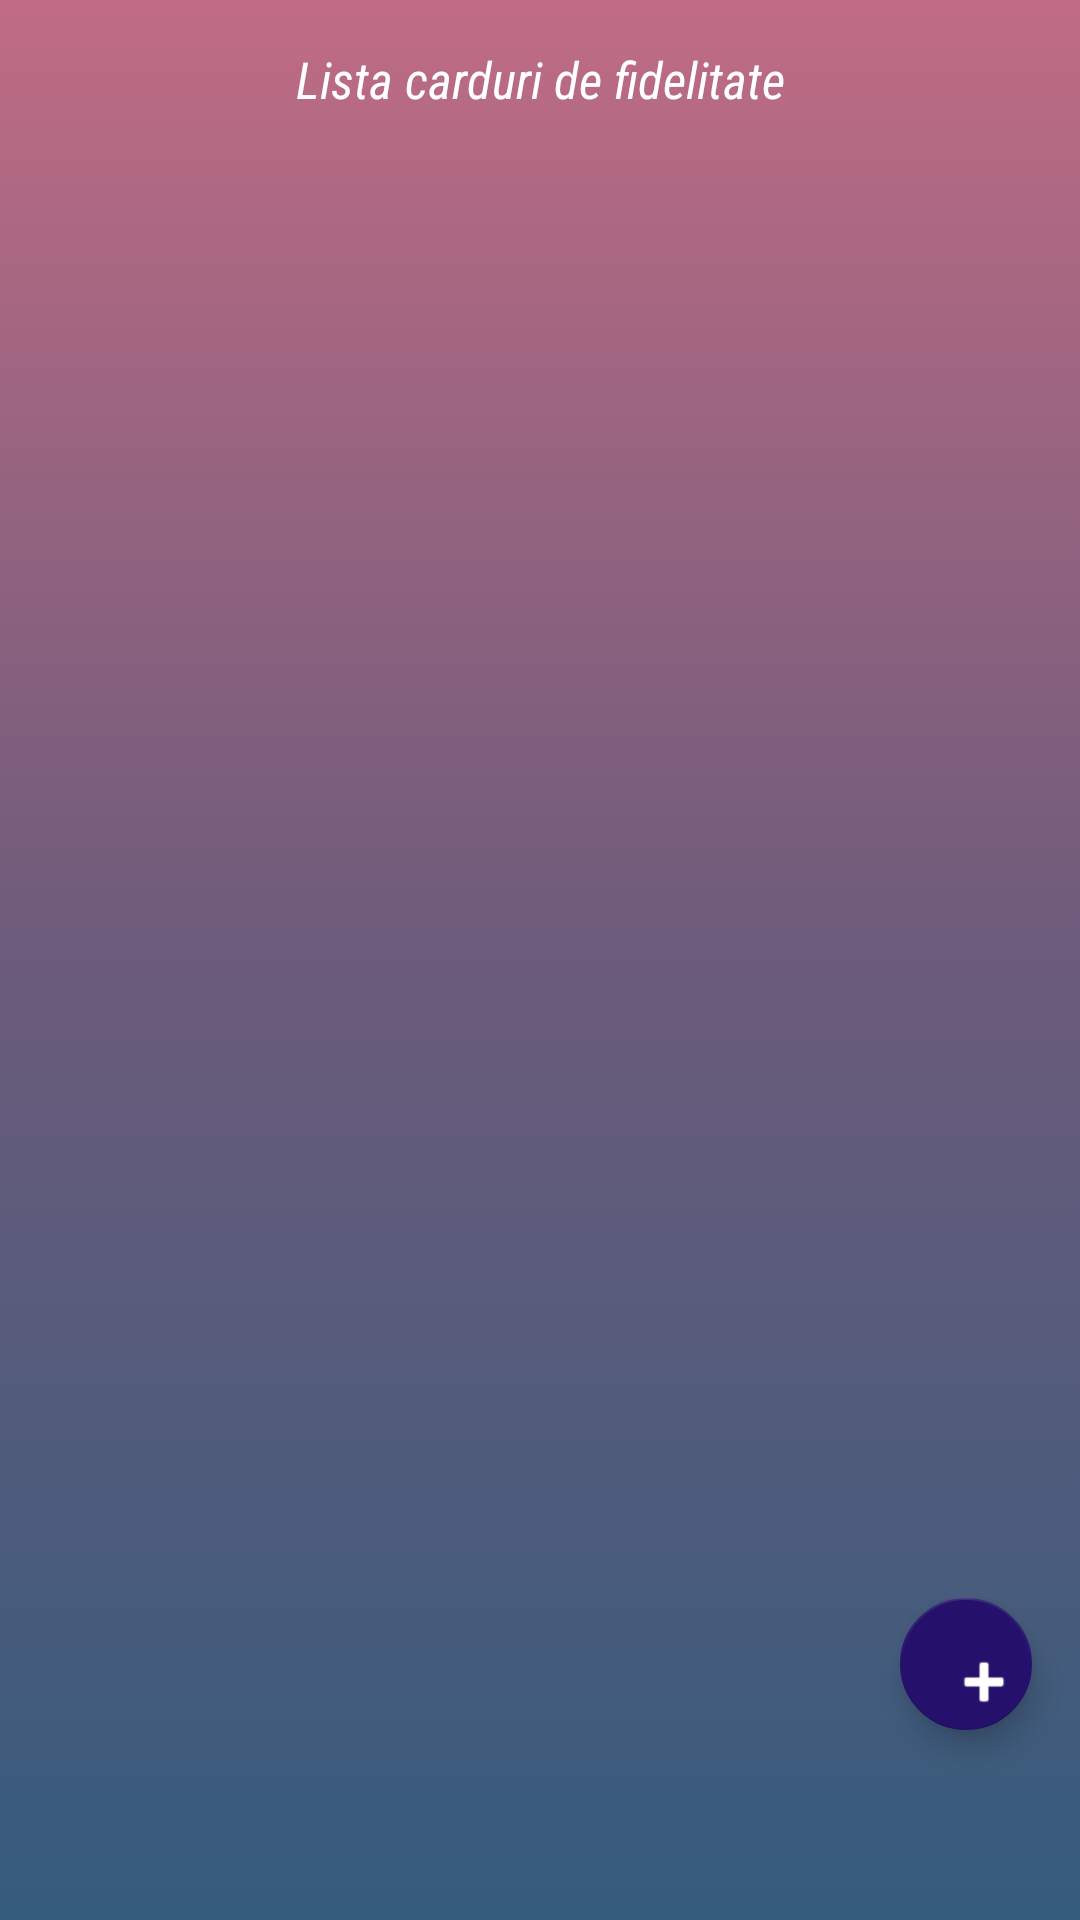

Icon click points for this 1080w x 1920h phone screenshot, format point (x, y):
add: point (966, 1664)
